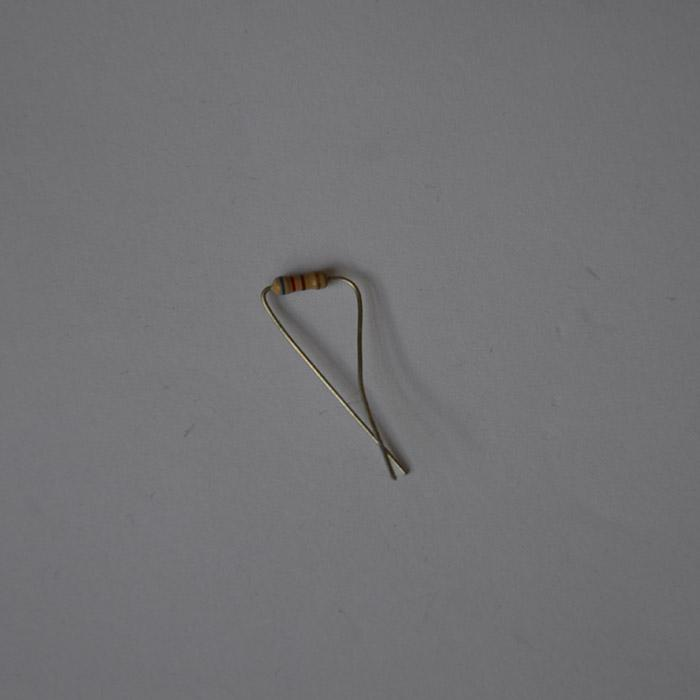resistor: (270, 270, 328, 295)
